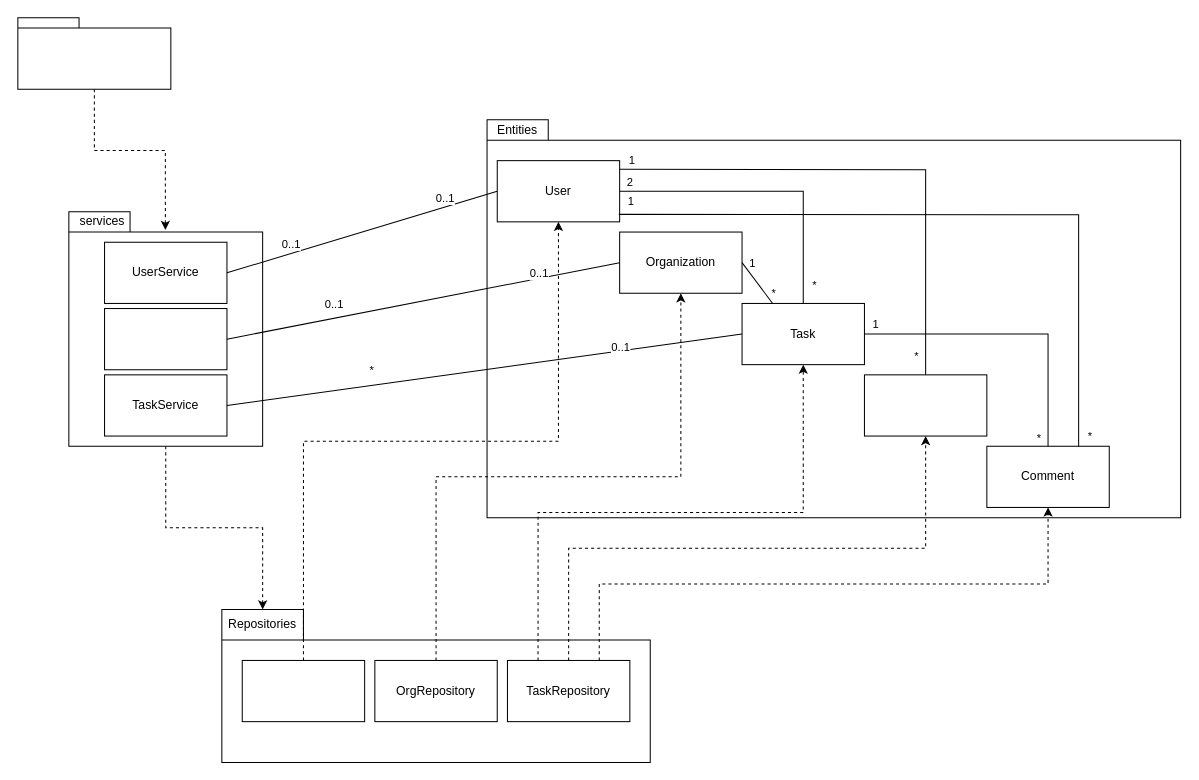
This 1199x780 diagram has some shape labels left out. The centre of each missing label's shape, as x and y in pixels:
Notification: point (925, 405)
OrgService: point (165, 339)
UI: point (94, 53)
UserRepository: point (303, 690)
